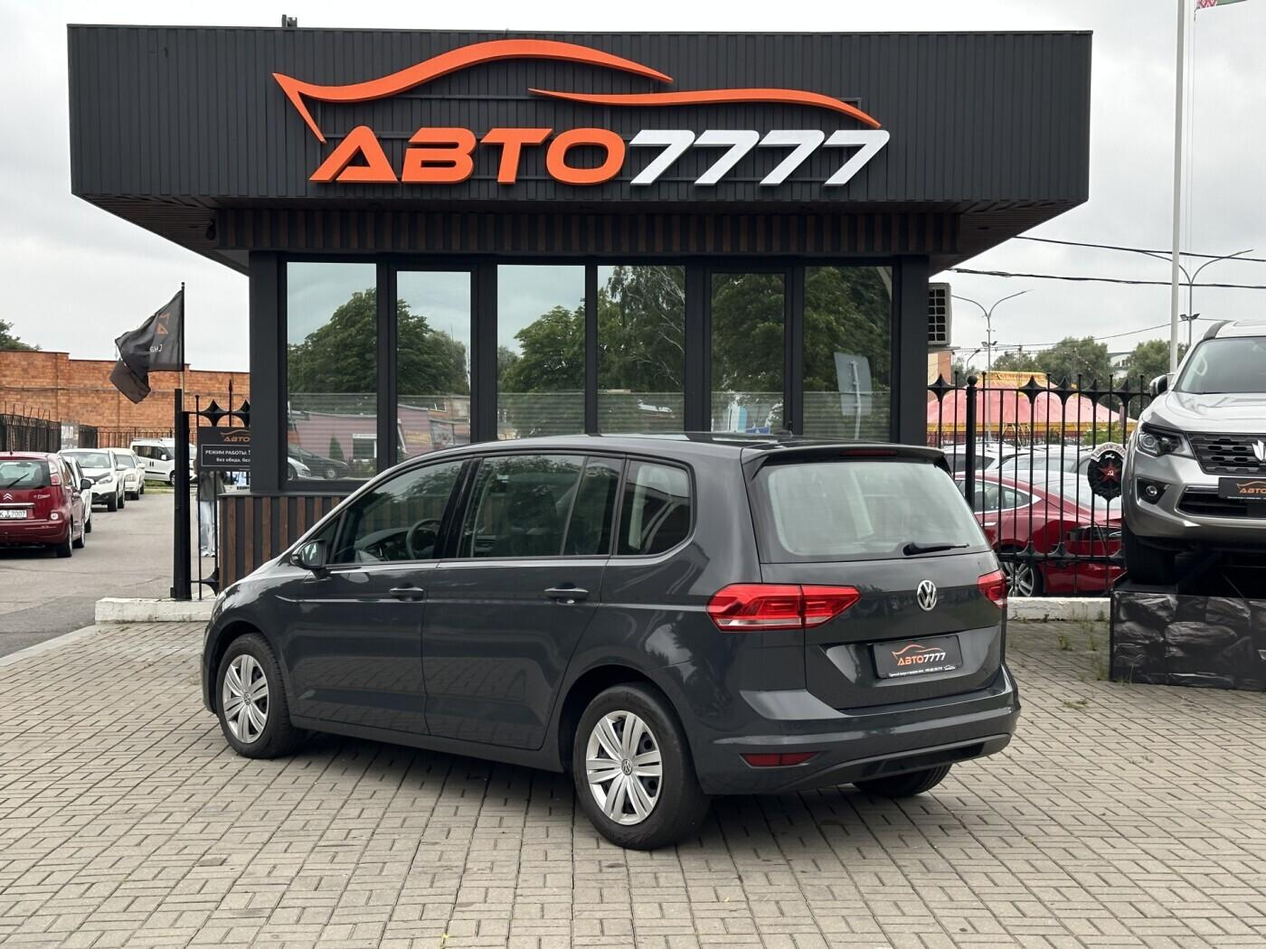Touran_2015: (202, 434, 1030, 850)
